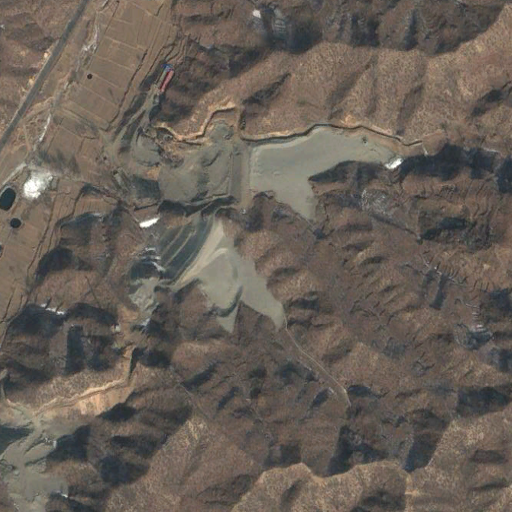tp: (150, 216, 289, 334), (234, 124, 398, 221)
